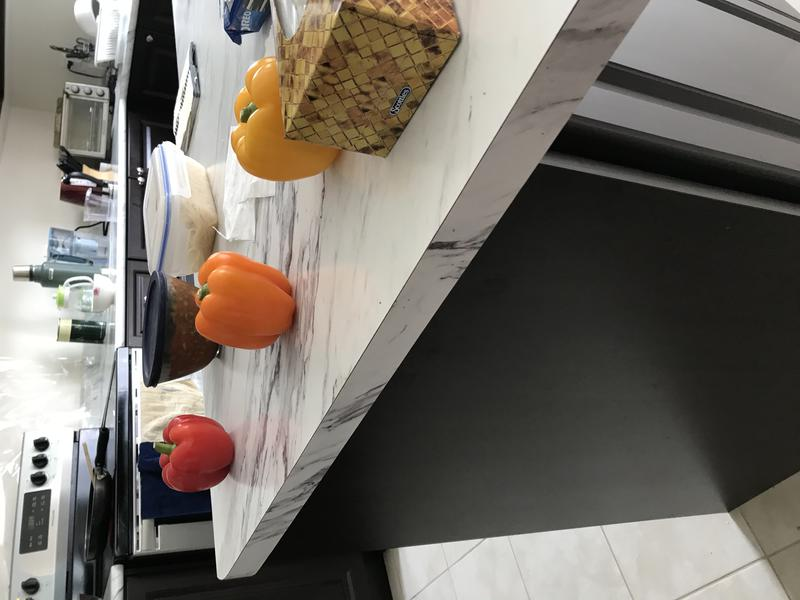orange_pepper: (183, 244, 307, 353)
red_pepper: (150, 409, 250, 503)
yellow_pepper: (221, 53, 347, 190)
